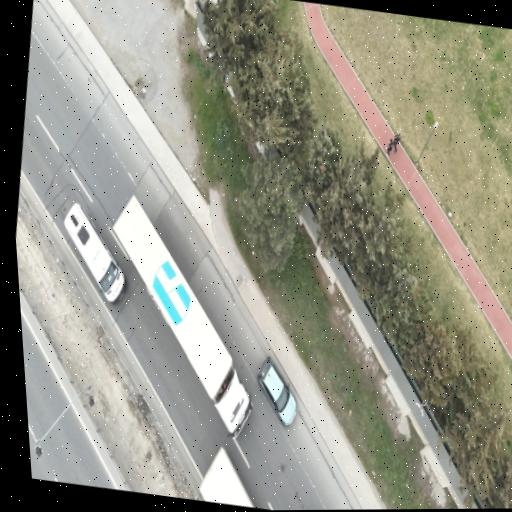bus: (65, 204, 125, 302)
car: (257, 357, 295, 425)
person: (393, 133, 400, 152), (385, 138, 392, 157)
truck: (112, 196, 251, 437), (199, 449, 252, 506)
